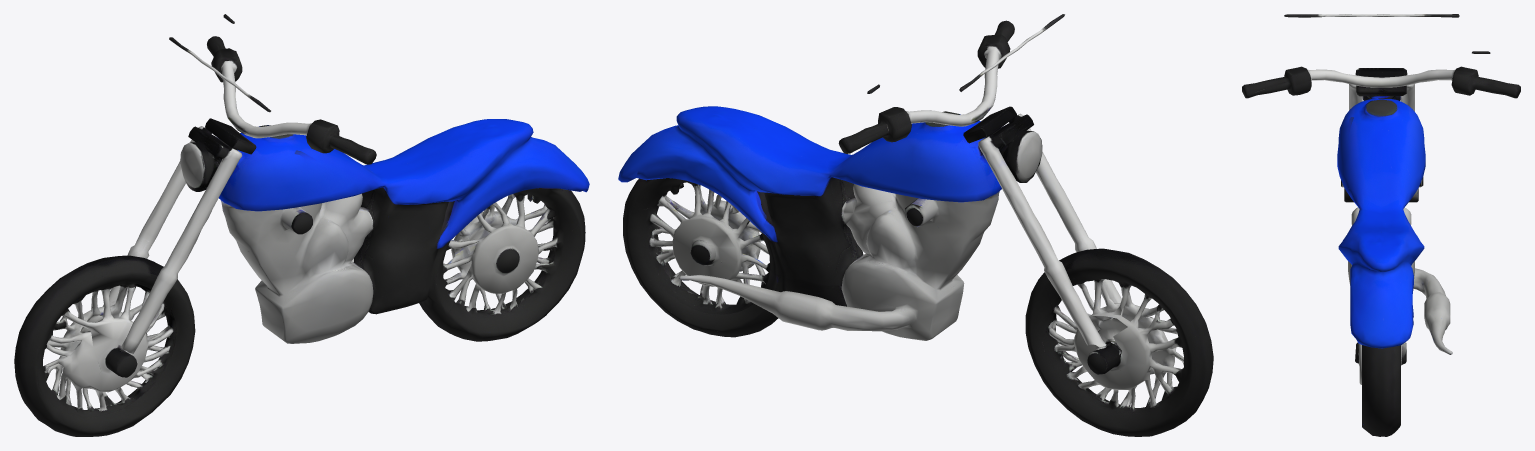
The model's file is moto1.glb.
The picture shows the model from 3 angles, left to right: view 1: azimuth 30°, elevation 25°; view 2: azimuth 150°, elevation 25°; view 3: azimuth 270°, elevation 25°; orthographic projection. The views are drawn at different scales.
Visible parts, largest first — view 1: Mesh_0; view 2: Mesh_0; view 3: Mesh_0.
Boxes of the visible parts, left/top/right/bottom form: Mesh_0: left=14, top=14, right=589, bottom=436; Mesh_0: left=618, top=14, right=1213, bottom=436; Mesh_0: left=1242, top=14, right=1520, bottom=436.
Bounding box in the file's own units: 2.29 × 1.3 × 1.11.
1 material, 1 textured.
